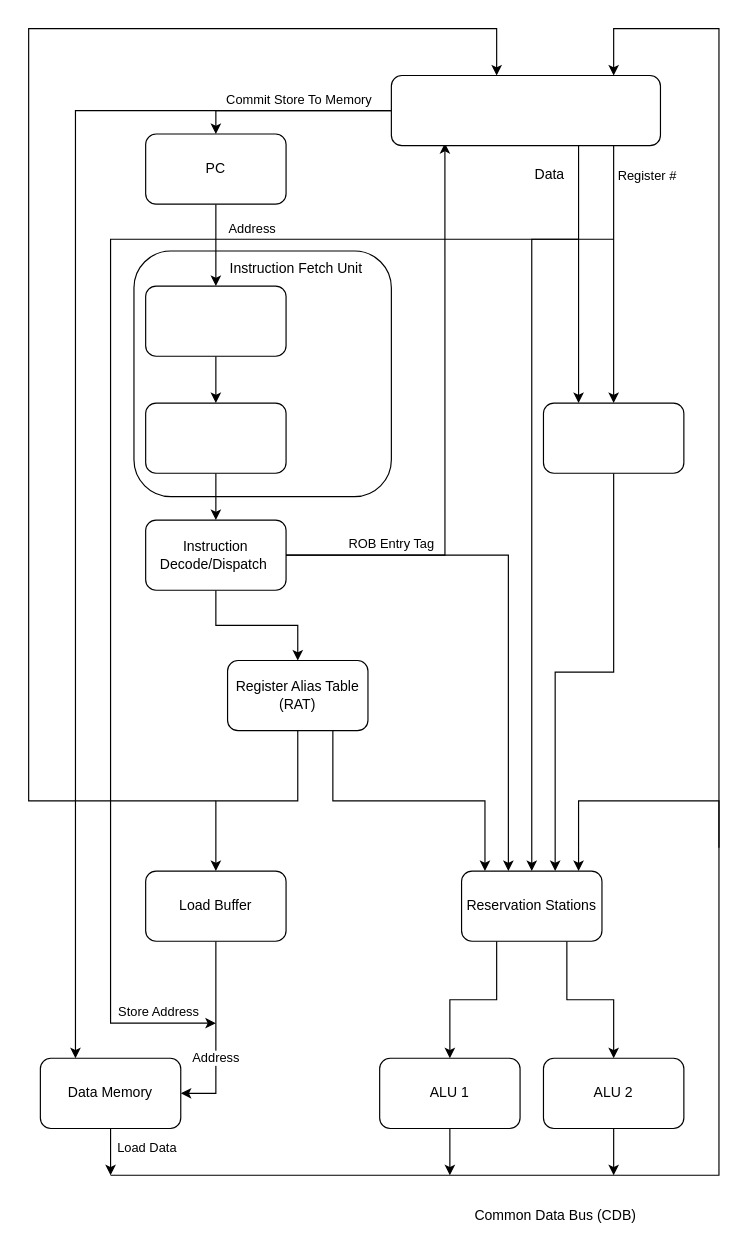
The diagram is 749 pixels wide and 1254 high, and some of its shapes have lost their labels. Each missing label, with the box of its shape:
Instruction Memory: (144, 285, 286, 356)
Instruction Queue: (144, 402, 286, 473)
Register File: (542, 402, 684, 473)
Reorder Buffer (ROB): (390, 74, 660, 146)
